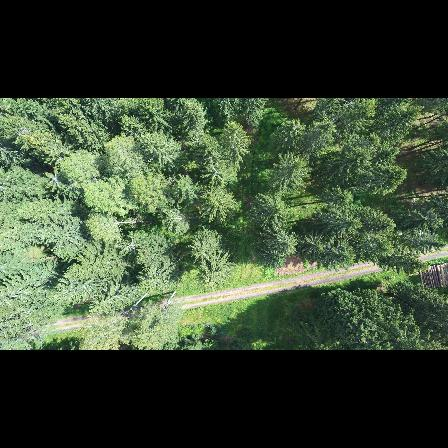Sick: (117, 235, 139, 255), (44, 168, 62, 191)
